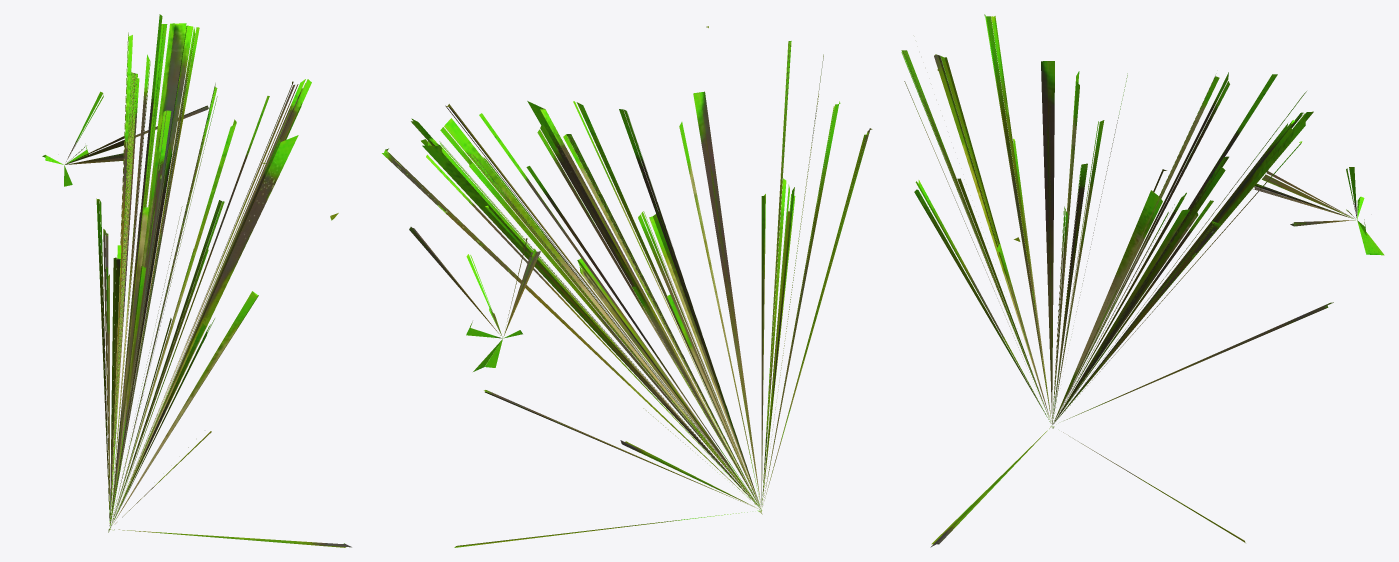
Rendered from landmark_ancient_oak.glb.
3 renders of one model, left to right at view 1: azimuth 30°, elevation 25°; view 2: azimuth 150°, elevation 25°; view 3: azimuth 270°, elevation 25°, orthographic. The views are drawn at different scales.
Visible parts, largest first — view 1: geometry_0; view 2: geometry_0; view 3: geometry_0.
Part boxes in pixels (left/top/right/bottom): geometry_0: left=42, top=14, right=351, bottom=547; geometry_0: left=382, top=26, right=872, bottom=547; geometry_0: left=901, top=14, right=1384, bottom=547.
Size of the model in its own units: 0.7301 by 0.9299 by 0.8917.
1 material, 1 textured.
